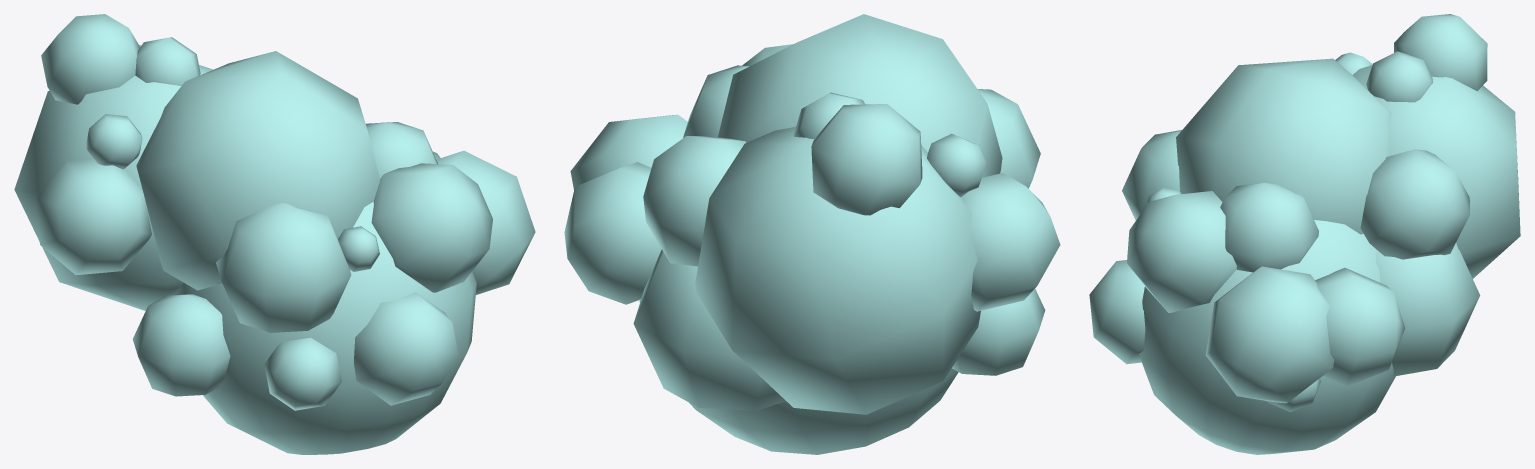
Rendered from p_renderable_foamgun_bubbles_pose1.fbx.
3 views of the same model, side by side, from view 1: azimuth 30°, elevation 25°; view 2: azimuth 150°, elevation 25°; view 3: azimuth 270°, elevation 25° (orthographic). The views are drawn at different scales.
Parts seen in each view (by area): view 1: Sphere.002; view 2: Sphere.002; view 3: Sphere.002.
Boxes of the visible parts, x1,y1,x2,y2 form: Sphere.002: (14, 14, 535, 454); Sphere.002: (564, 14, 1060, 454); Sphere.002: (1089, 14, 1520, 454).
Size of the model in its own units: 2.39 by 2.02 by 2.19.
